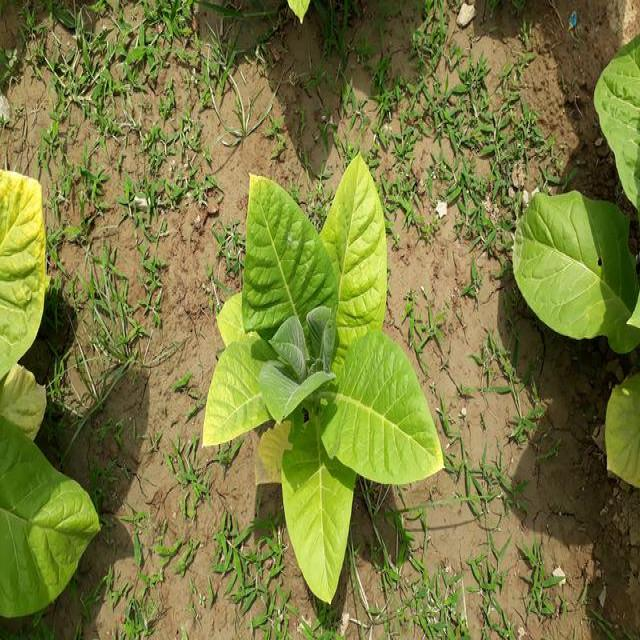crop: (211, 147, 439, 608), (540, 26, 640, 468), (0, 166, 95, 628)
